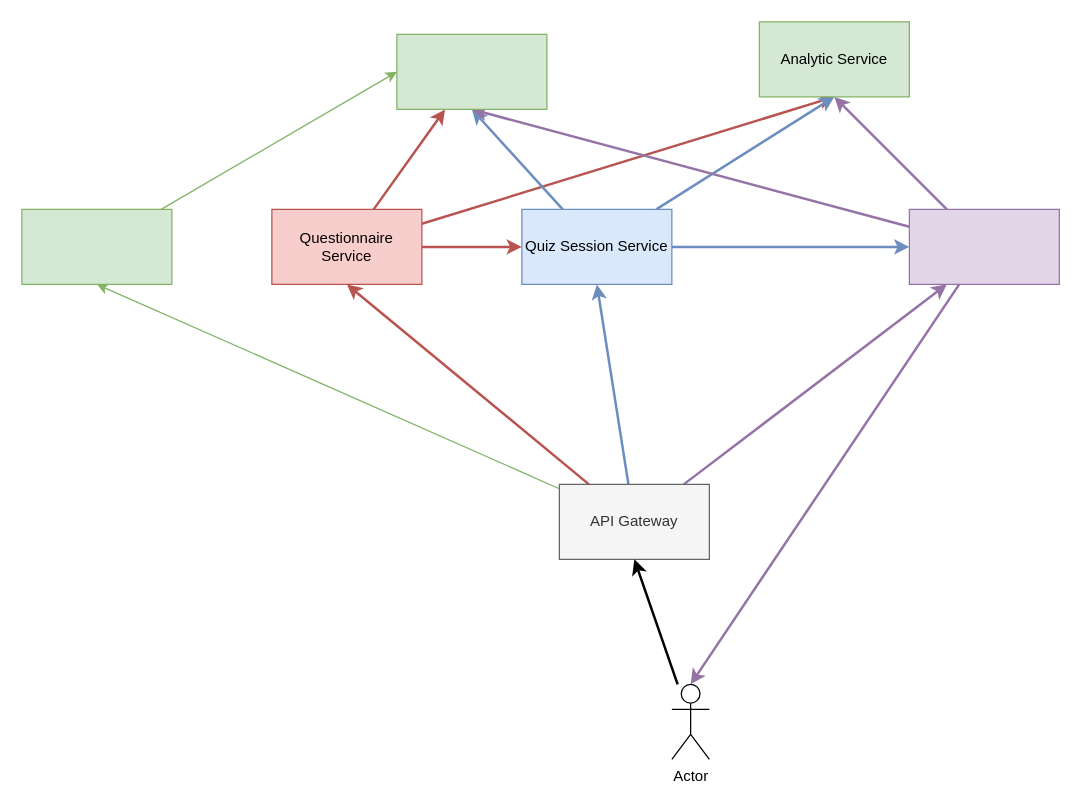
Some shapes in this 1081 by 808 pixel diagram are drawn without their labels. Here are the shapes that lost their labels. From the top down, the centre of each, then its label:
pixel 471 71: Observability Services
pixel 96 246: User Service
pixel 983 246: Notifier Worker
